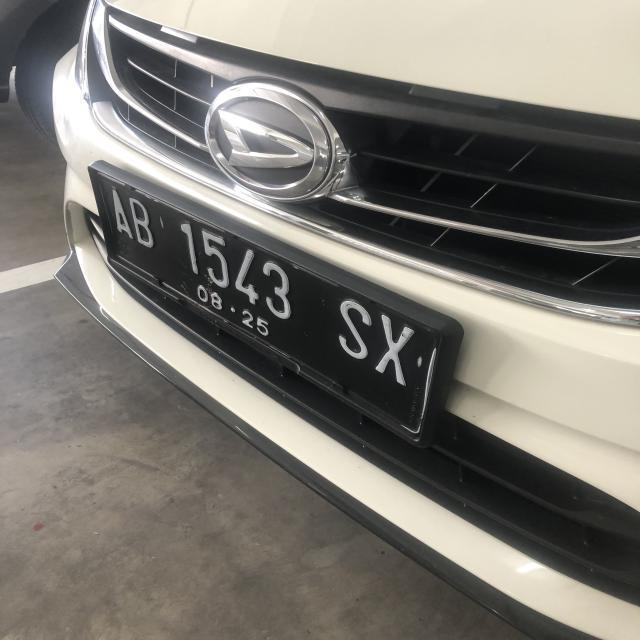1: (180, 221, 202, 276)
3: (261, 261, 293, 319)
4: (233, 249, 262, 305)
5: (202, 232, 228, 291)
A: (106, 186, 132, 242)
B: (129, 198, 153, 252)
S: (338, 300, 372, 364)
X: (376, 315, 416, 392)
